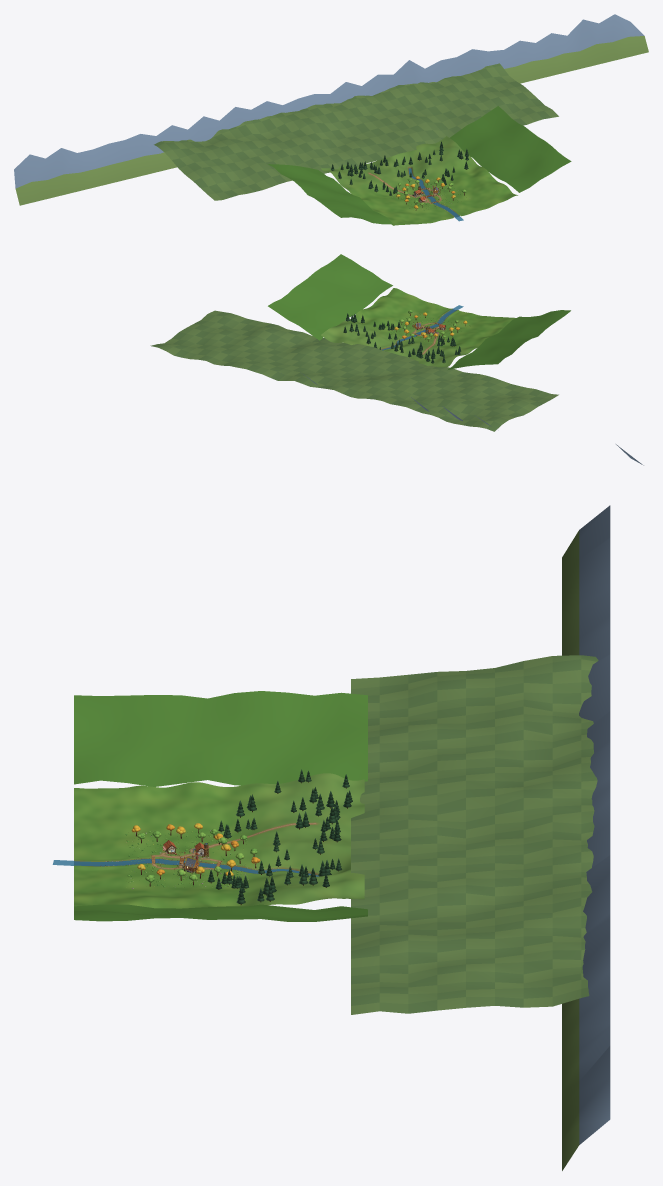
The model's file is village_complete.glb.
The picture shows the model from 3 angles, top to bottom: view 1: azimuth 30°, elevation 25°; view 2: azimuth 150°, elevation 25°; view 3: azimuth 270°, elevation 25°; orthographic projection. The views are drawn at different scales.
Parts seen in each view (by area): view 1: TERRAIN_FarHills, TERRAIN_Ground, VEG_Trees_Far; view 2: TERRAIN_FarHills, TERRAIN_Ground, VEG_Trees_Far; view 3: TERRAIN_FarHills, TERRAIN_Ground, VEG_Trees_Far, WATER_River.
Part boxes in pixels (x1=…): TERRAIN_FarHills: x1=14, y1=14, x2=648, y2=224; TERRAIN_Ground: x1=321, y1=136, x2=517, y2=225; VEG_Trees_Far: x1=331, y1=141, x2=468, y2=195; TERRAIN_FarHills: x1=150, y1=254, x2=643, y2=465; TERRAIN_Ground: x1=321, y1=288, x2=515, y2=367; VEG_Trees_Far: x1=343, y1=313, x2=461, y2=363; TERRAIN_FarHills: x1=74, y1=505, x2=610, y2=1170; TERRAIN_Ground: x1=74, y1=773, x2=364, y2=908; VEG_Trees_Far: x1=207, y1=769, x2=352, y2=904; WATER_River: x1=52, y1=859, x2=319, y2=876.
Size of the model in its own units: 840 by 49.77 by 322.
13 materials, 4 textured.
